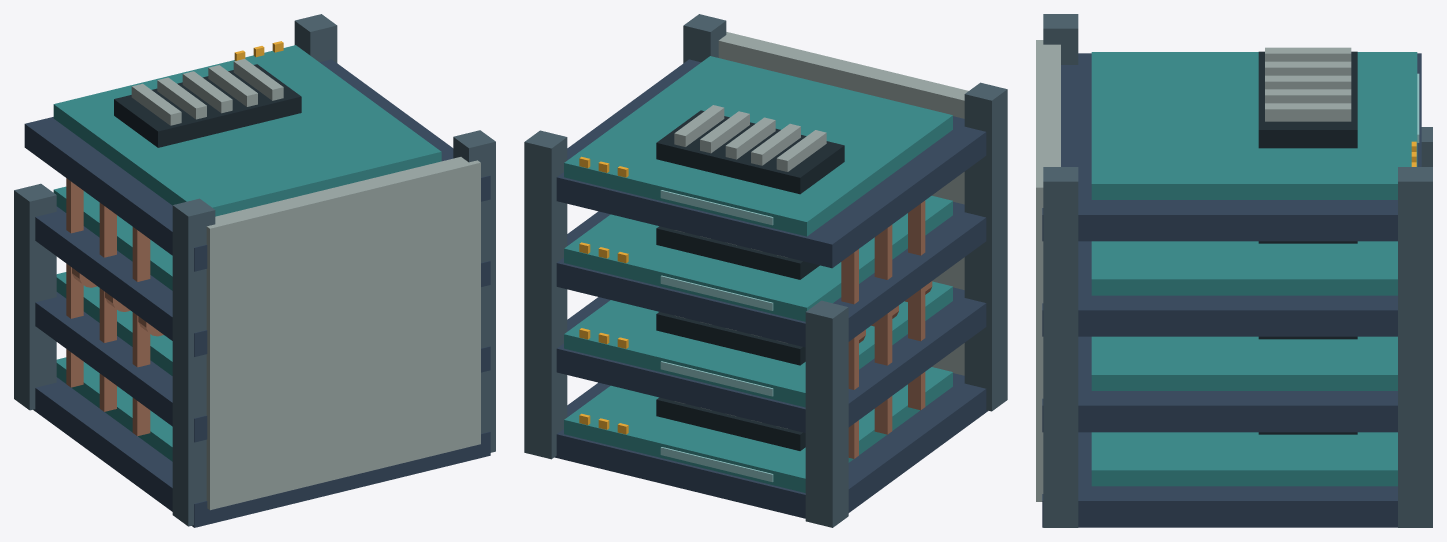
The model's file is debris-avionics-rack.glb.
3 views of the same model, side by side, from view 1: azimuth 30°, elevation 25°; view 2: azimuth 150°, elevation 25°; view 3: azimuth 270°, elevation 25° (orthographic). The views are drawn at different scales.
Visible parts, largest first — view 1: Avionics rack; view 2: Avionics rack; view 3: Avionics rack.
Boxes of the visible parts, x1,y1,x2,y2 form: Avionics rack: (14, 14, 495, 527); Avionics rack: (524, 14, 1007, 527); Avionics rack: (1036, 14, 1432, 527).
Bounding box in the file's own units: 1 × 1 × 1.
